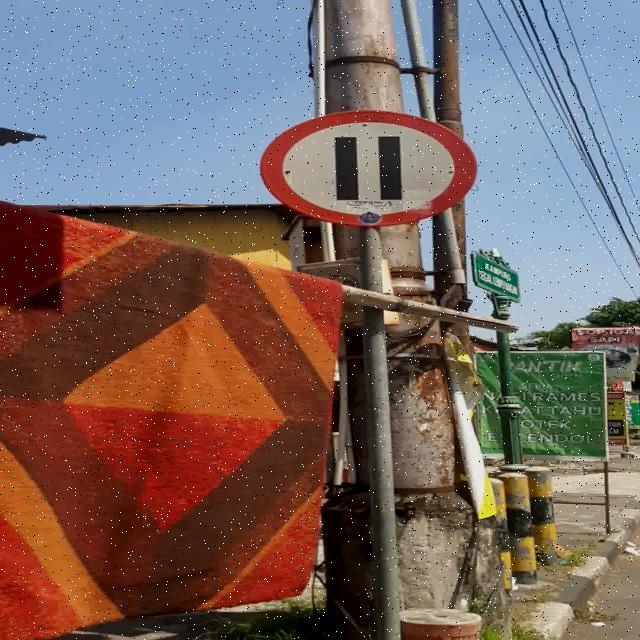Larangan Muatan - 10 ton: (259, 110, 476, 226)
